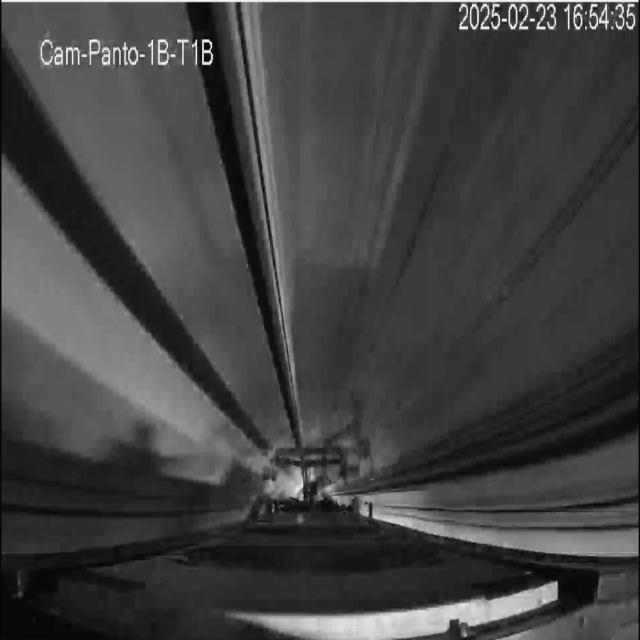Camera Stamp: (40, 33, 219, 70)
Date Stamp: (458, 3, 637, 33)
No - Spark: (259, 402, 354, 499)
